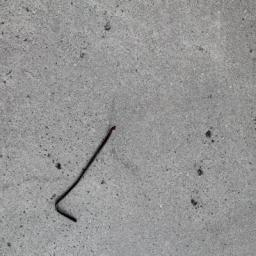FOD: (54, 125, 121, 225)
